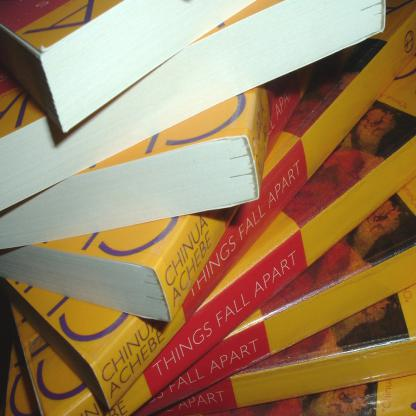book: (0, 0, 416, 412), (6, 51, 416, 416), (0, 58, 320, 322), (0, 0, 387, 217), (132, 176, 416, 416), (0, 76, 269, 257), (157, 279, 415, 412), (0, 0, 254, 134), (220, 370, 416, 416)
